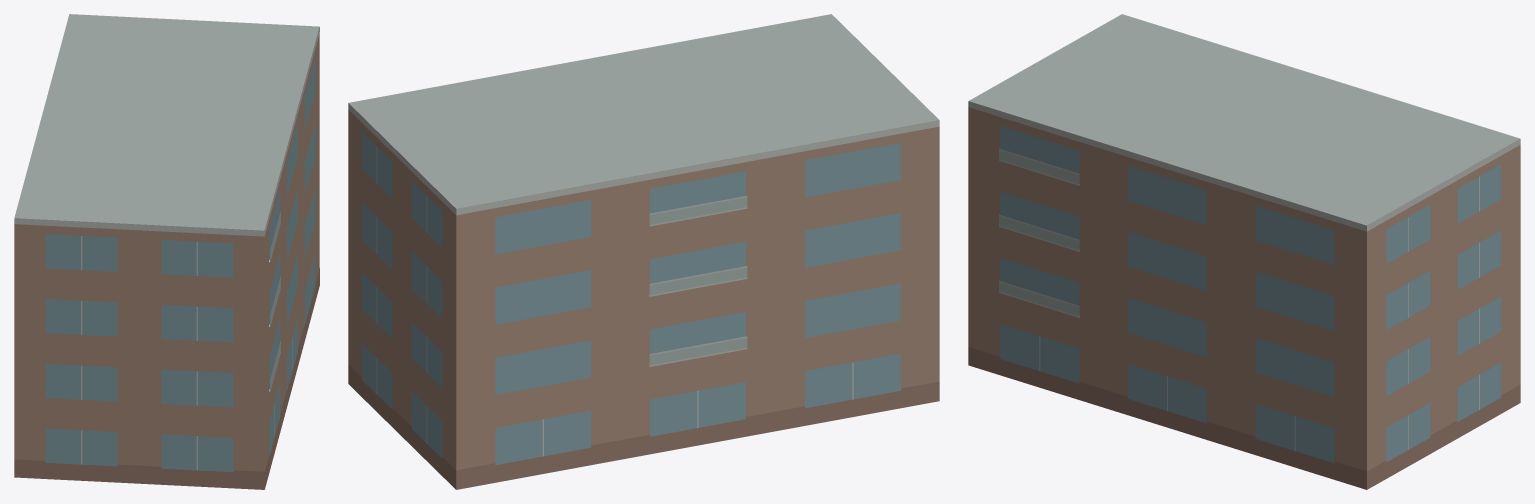
The model's file is survey-upis-32712645.glb.
The picture shows the model from 3 angles, left to right: view 1: azimuth 30°, elevation 25°; view 2: azimuth 150°, elevation 25°; view 3: azimuth 270°, elevation 25°; orthographic projection. The views are drawn at different scales.
Visible parts, largest first — view 1: survey-upis-32712645.tmp; view 2: survey-upis-32712645.tmp; view 3: survey-upis-32712645.tmp.
Part boxes in pixels (x1,y1,x2,y2): survey-upis-32712645.tmp: [14, 14, 319, 489]; survey-upis-32712645.tmp: [348, 14, 939, 489]; survey-upis-32712645.tmp: [968, 14, 1520, 489].
Bounding box in the file's own units: 18.3 × 10.65 × 20.18.
